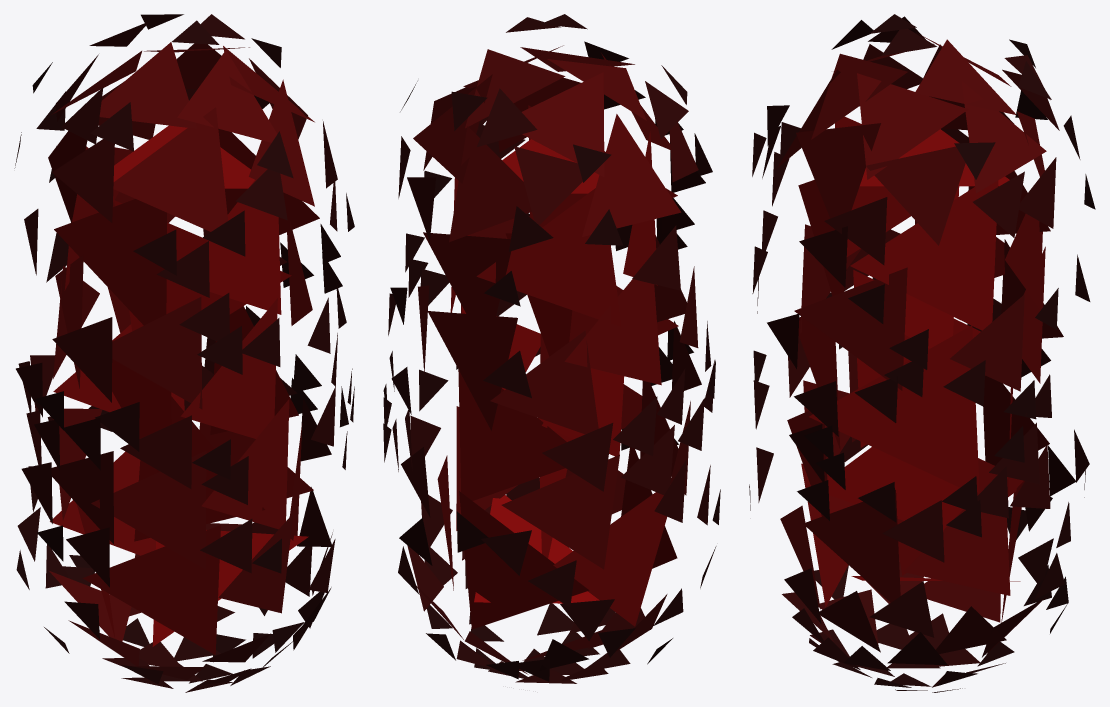
File: CapsuleVoxelProxy.fbx
The picture shows the model from 3 angles, left to right: view 1: azimuth 30°, elevation 25°; view 2: azimuth 150°, elevation 25°; view 3: azimuth 270°, elevation 25°; orthographic projection.
Parts seen in each view (by area): view 1: Capsule_Voxel_Proxy; view 2: Capsule_Voxel_Proxy; view 3: Capsule_Voxel_Proxy.
Part boxes in pixels (x1,y1,x2,y2): Capsule_Voxel_Proxy: (14, 14, 354, 692); Capsule_Voxel_Proxy: (383, 14, 720, 683); Capsule_Voxel_Proxy: (749, 14, 1095, 692).
Size of the model in its own units: 0.9151 by 1.88 by 0.9028.
